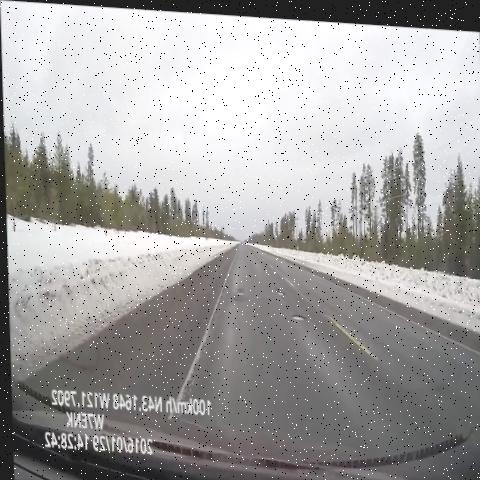pothole: (284, 305, 311, 331), (225, 281, 250, 305), (266, 278, 287, 298)
